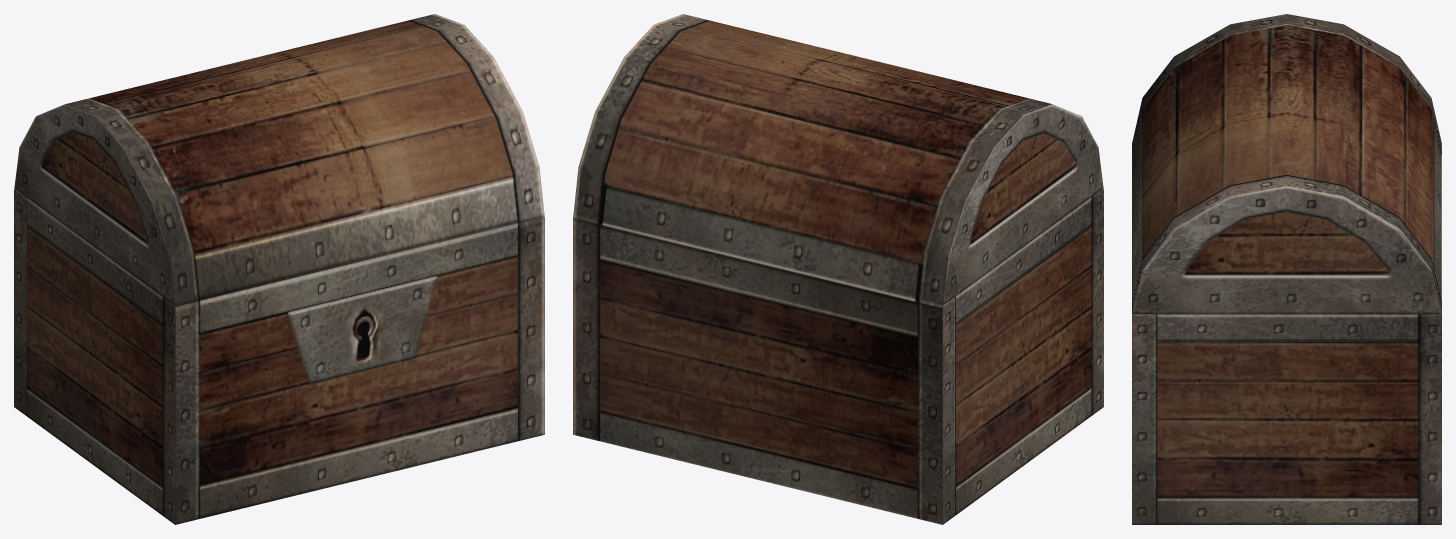
File: treasure_box.fbx
The picture shows the model from 3 angles, left to right: view 1: azimuth 30°, elevation 25°; view 2: azimuth 150°, elevation 25°; view 3: azimuth 270°, elevation 25°; orthographic projection. The views are drawn at different scales.
Visible parts, largest first — view 1: treasure_box, treasure_box_lid; view 2: treasure_box, treasure_box_lid; view 3: treasure_box_lid, treasure_box.
Part boxes in pixels (x1,y1,x2,y2): treasure_box: (14, 191, 544, 524); treasure_box_lid: (14, 14, 544, 308); treasure_box: (573, 191, 1103, 524); treasure_box_lid: (573, 14, 1103, 308); treasure_box_lid: (1132, 14, 1441, 316); treasure_box: (1132, 317, 1441, 524).
Size of the model in its own units: 49.42 by 44.83 by 37.3.
